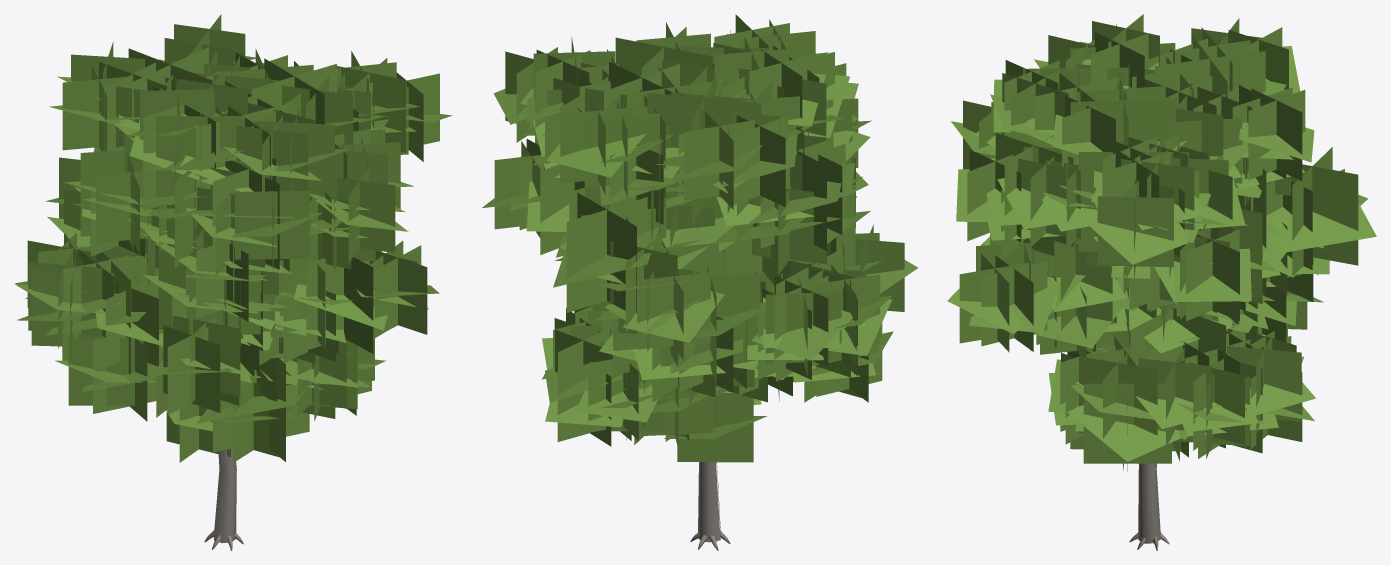
Rendered from tilleul_1_f2_jeu.glb.
3 views of the same model, side by side, from view 1: azimuth 30°, elevation 25°; view 2: azimuth 150°, elevation 25°; view 3: azimuth 270°, elevation 25° (orthographic). The views are drawn at different scales.
Visible parts, largest first — view 1: Tilleul_T1_f2_Leger; view 2: Tilleul_T1_f2_Leger; view 3: Tilleul_T1_f2_Leger.
Part boxes in pixels (left/top/right/bottom): Tilleul_T1_f2_Leger: left=14, top=14, right=452, bottom=550; Tilleul_T1_f2_Leger: left=482, top=14, right=918, bottom=550; Tilleul_T1_f2_Leger: left=947, top=14, right=1376, bottom=550.
Bounding box in the file's own units: 5.81 × 6.59 × 5.28.
